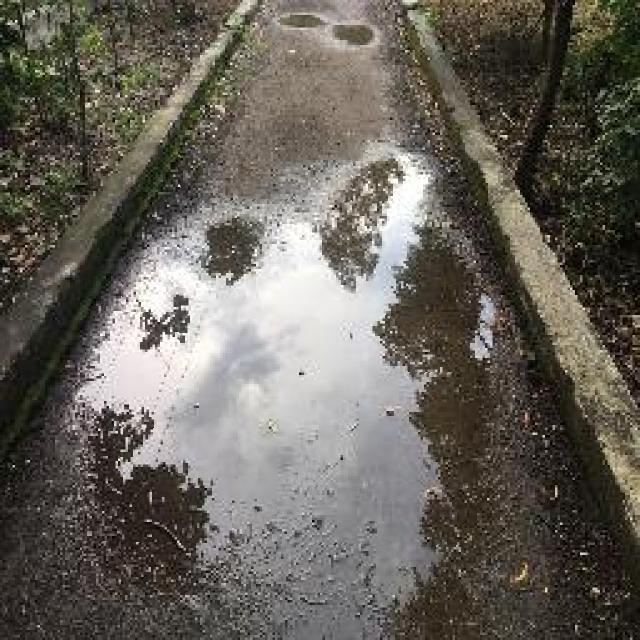puddle: (85, 150, 503, 596)
